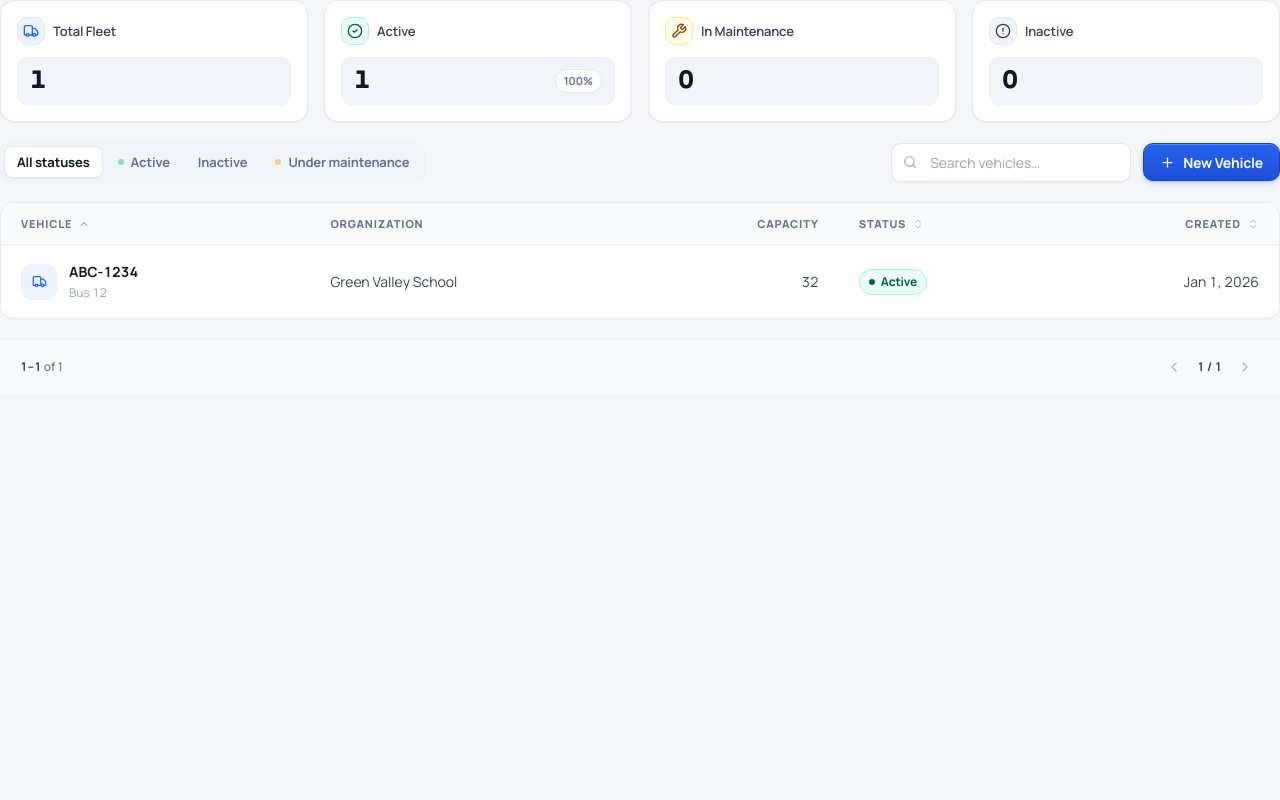
Test: VehiclesPage › shows the last-seen timestamp for a device that has reported, with no device identifier anywhere
Click the text "ABC-1234": (104, 272) [69,261,138,283]
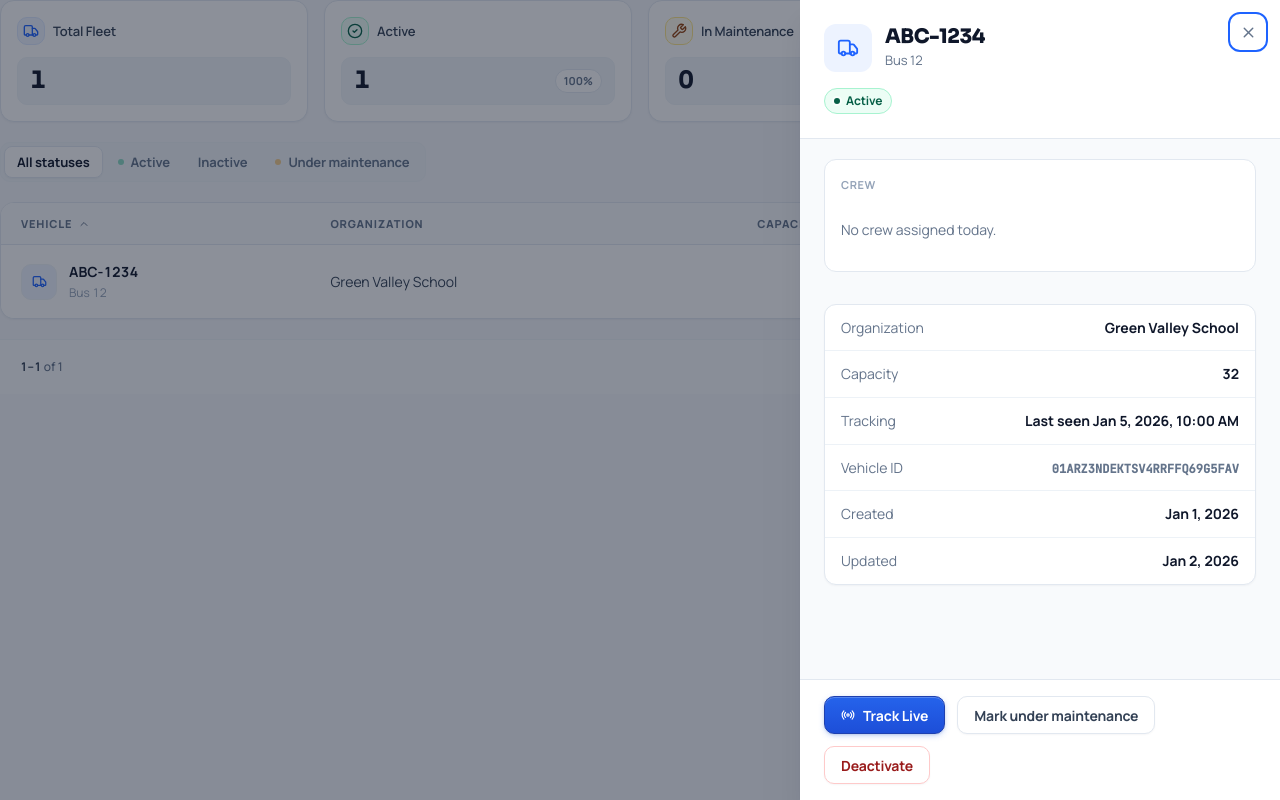
Expected: the text "Last seen Jan 5, 2026, 10:00 AM" is shown, [1025,410,1239,432]
